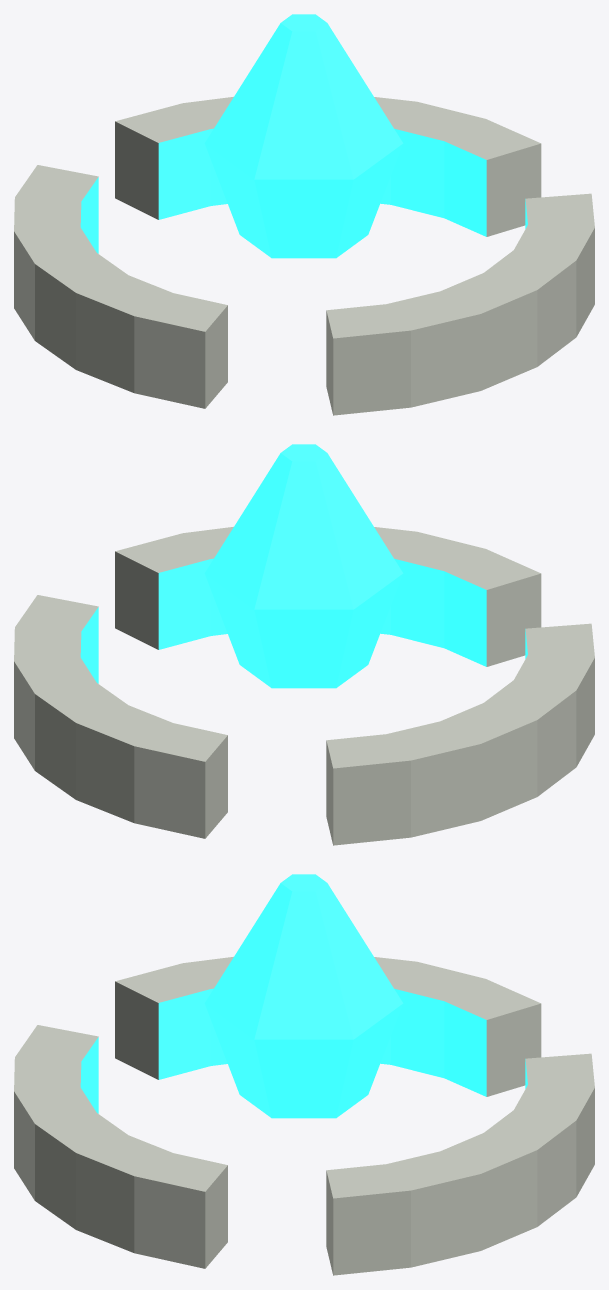
The model's file is Utility_Transformer_FieldCapacitors.glb.
3 views of the same model, one above another, from view 1: azimuth 30°, elevation 25°; view 2: azimuth 150°, elevation 25°; view 3: azimuth 270°, elevation 25° (orthographic).
Visible parts, largest first — view 1: Utility_Transformer_FieldCapacitors; view 2: Utility_Transformer_FieldCapacitors; view 3: Utility_Transformer_FieldCapacitors.
Part boxes in pixels (x1=…): Utility_Transformer_FieldCapacitors: x1=14, y1=14, x2=594, y2=415; Utility_Transformer_FieldCapacitors: x1=14, y1=444, x2=594, y2=845; Utility_Transformer_FieldCapacitors: x1=14, y1=874, x2=594, y2=1275.
Bounding box in the file's own units: 1.09 × 0.56 × 1.09.
